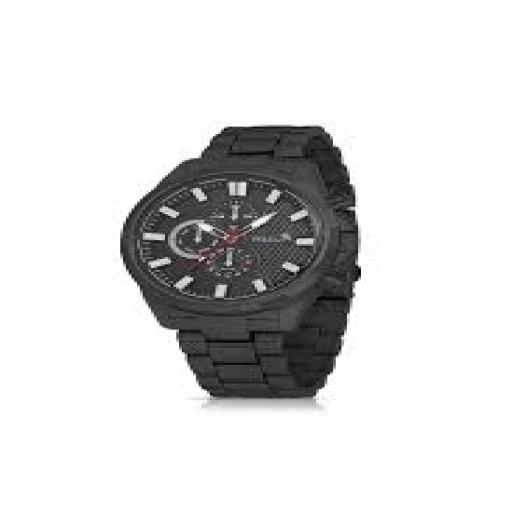KolSaati: (85, 62, 424, 423)
